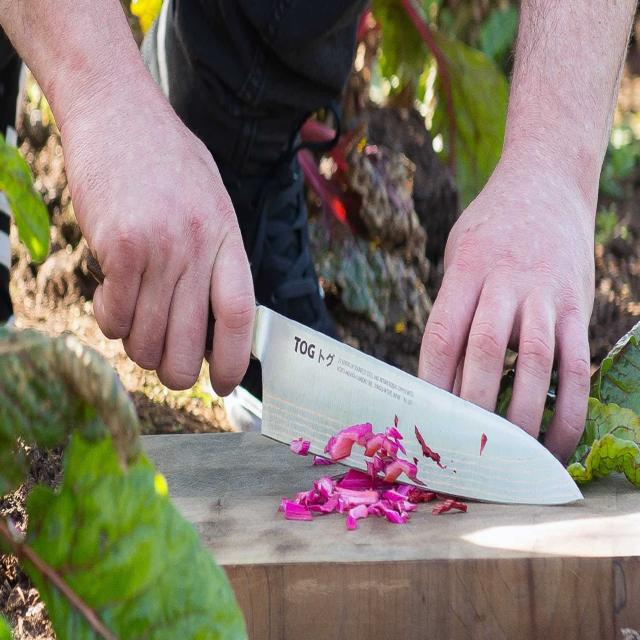knife: (253, 303, 585, 505)
